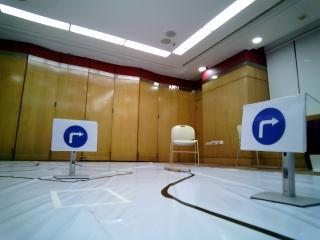right: (245, 107, 304, 151), (59, 120, 93, 152)
